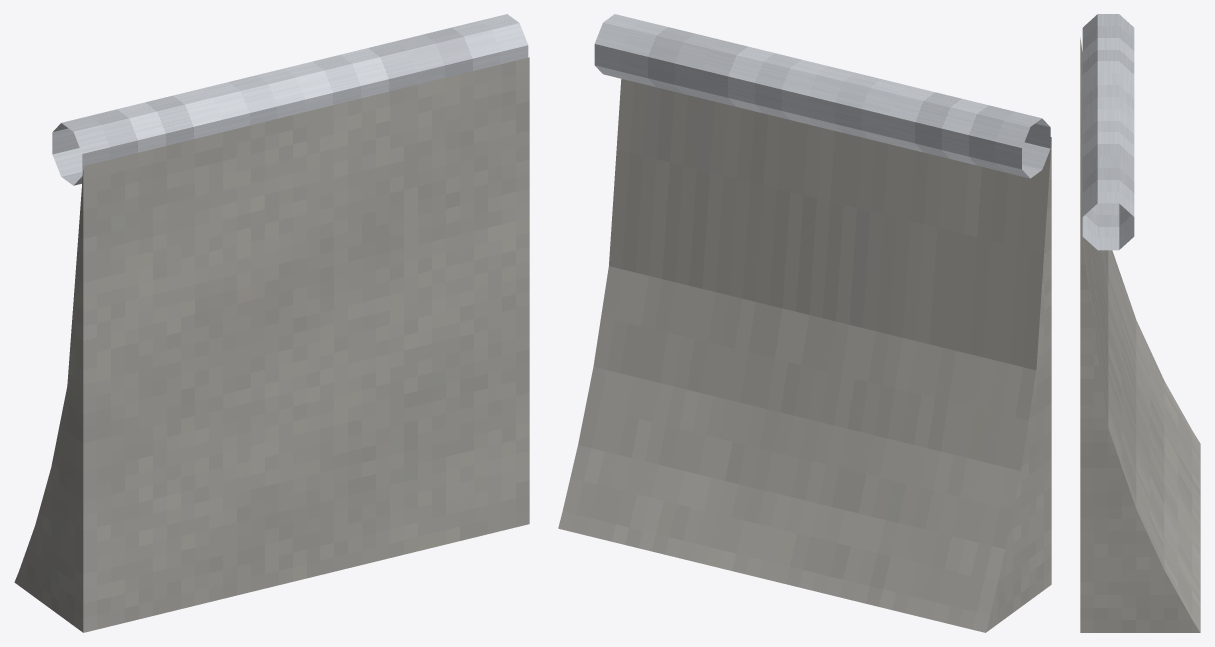
File: qp_large_top.obj
3 renders of one model, left to right at view 1: azimuth 30°, elevation 25°; view 2: azimuth 150°, elevation 25°; view 3: azimuth 270°, elevation 25°, orthographic. The views are drawn at different scales.
Visible parts, largest first — view 1: qp_large_top; view 2: qp_large_top; view 3: qp_large_top.
Part boxes in pixels (<box>): qp_large_top: <box>14,14,529,632</box>; qp_large_top: <box>558,14,1051,632</box>; qp_large_top: <box>1080,14,1200,632</box>.
Bounding box in the file's own units: 1 × 1.06 × 0.2679.
